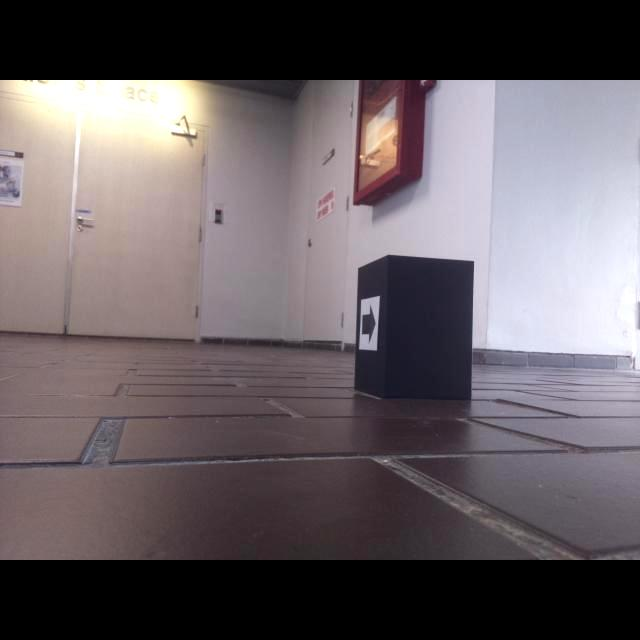RIGHT: (361, 303, 377, 345)
